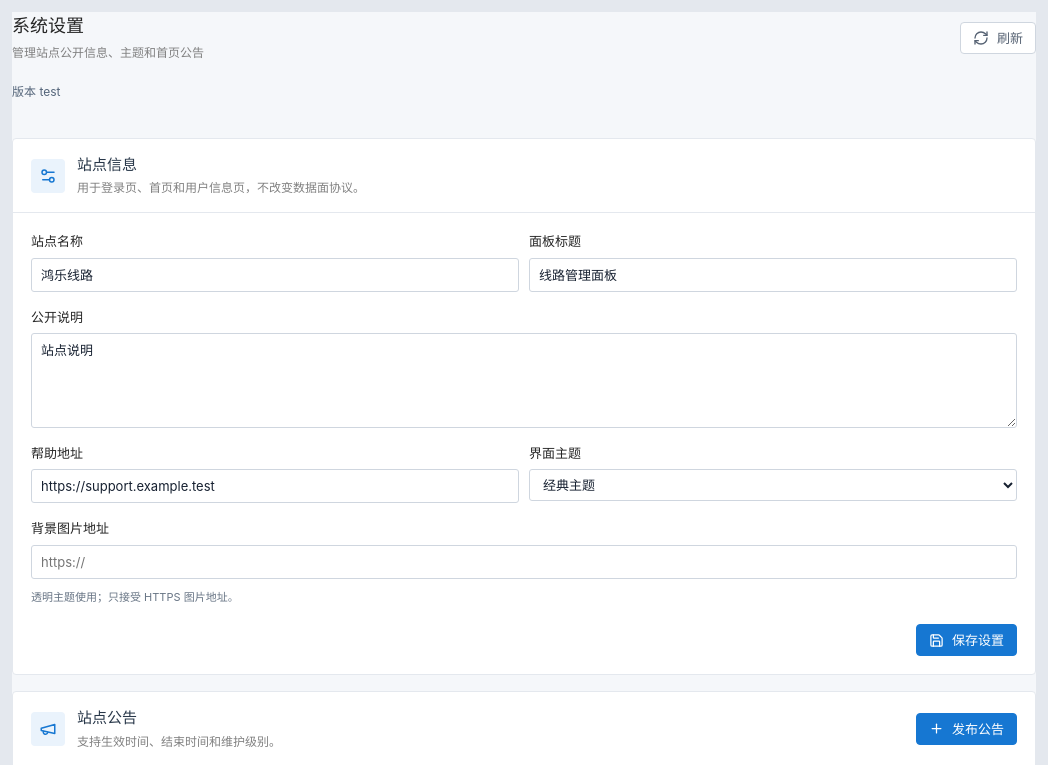
Test: SystemSettingsPage › prevents concurrent saves and shows a refresh failure with retained settings
Submit the form, box [13,213,1035,674]
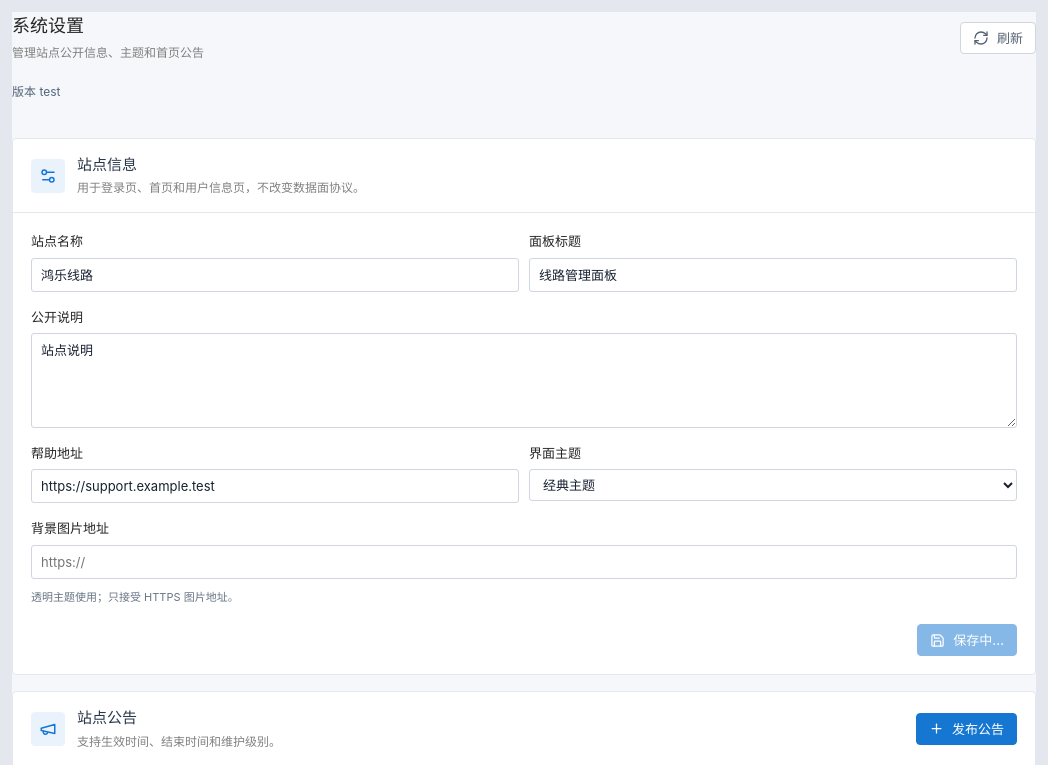
Submit the form, box [13,213,1035,674]
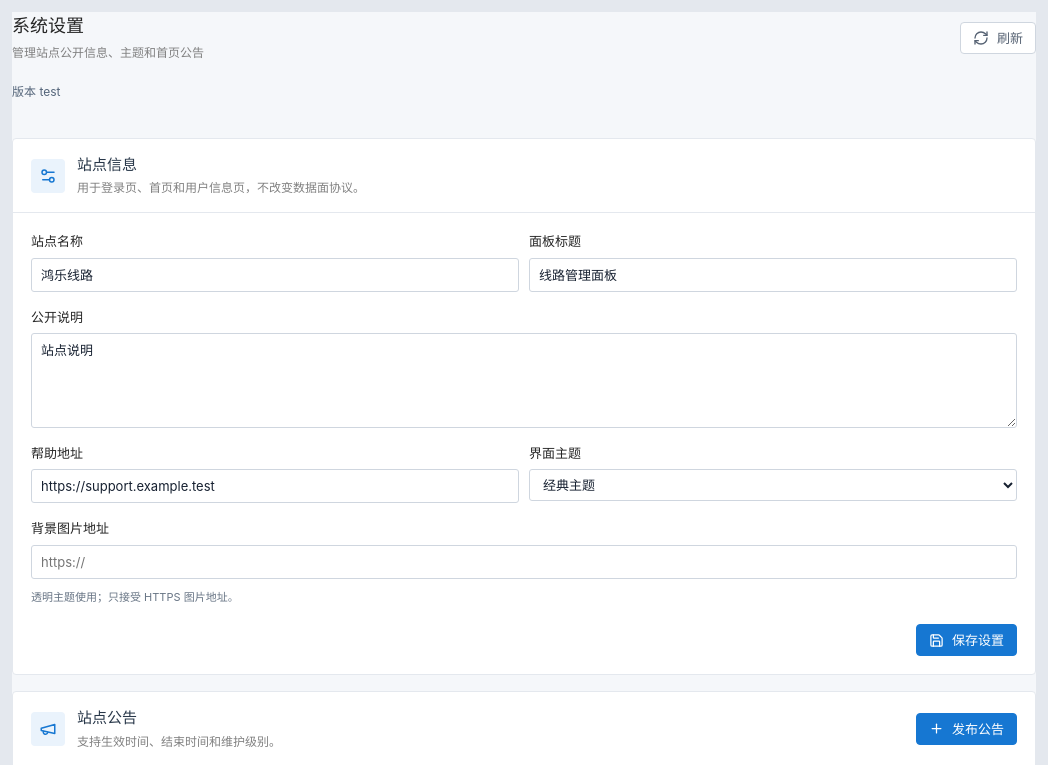
Click the button "刷新" at [998, 38], box [960,22,1036,54]
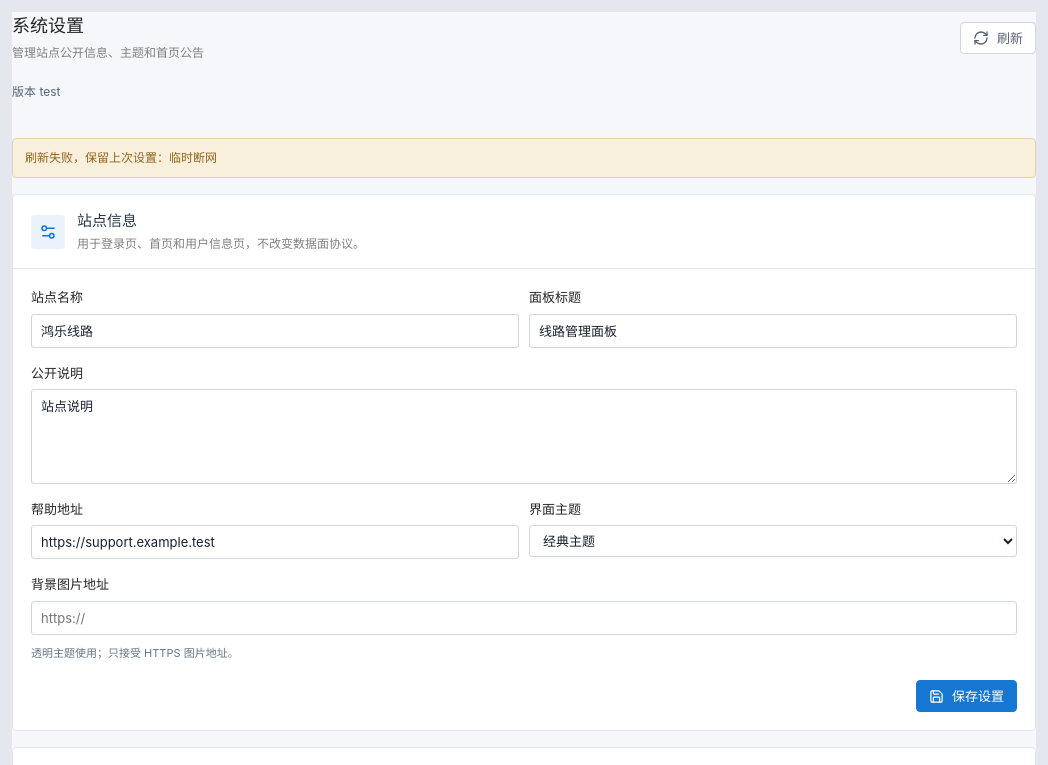
expect the field labelled "站点名称" holds "鸿乐线路": met, box [31,314,519,348]
expect the message "刷新失败，保留上次设置：临时断网" is shown: met, box [12,138,1036,178]
